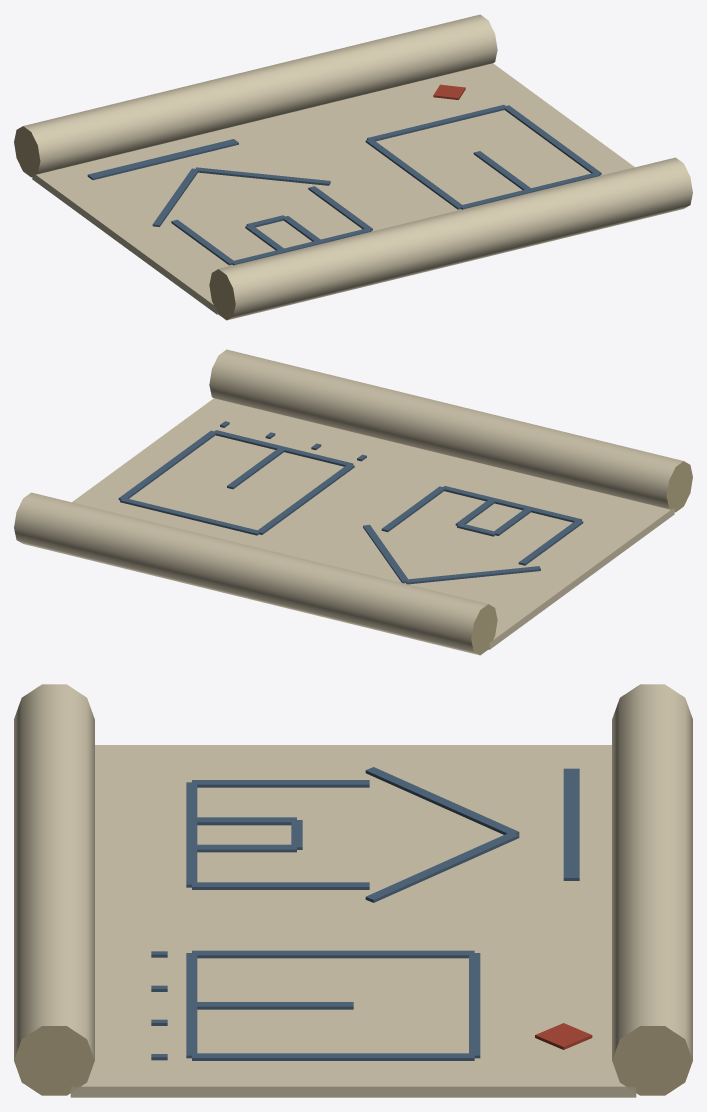
File: blueprint_open.glb
3 renders of one model, top to bottom at view 1: azimuth 30°, elevation 25°; view 2: azimuth 150°, elevation 25°; view 3: azimuth 270°, elevation 25°, orthographic. The views are drawn at different scales.
Parts seen in each view (by area): view 1: body, body_nl, body_nh; view 2: body, body_nl, body_nh; view 3: body, body_nl, body_nh.
Part boxes in pixels (left/top/right/bottom): body: left=32, top=63, right=634, bottom=314; body_nl: left=14, top=14, right=692, bottom=320; body_nh: left=87, top=84, right=601, bottom=265; body: left=72, top=398, right=674, bottom=649; body_nl: left=14, top=349, right=692, bottom=655; body_nh: left=118, top=421, right=583, bottom=584; body: left=70, top=745, right=636, bottom=1097; body_nl: left=14, top=684, right=692, bottom=1095; body_nh: left=151, top=767, right=592, bottom=1060.
Size of the model in its own units: 1 by 0.0976 by 0.84.
